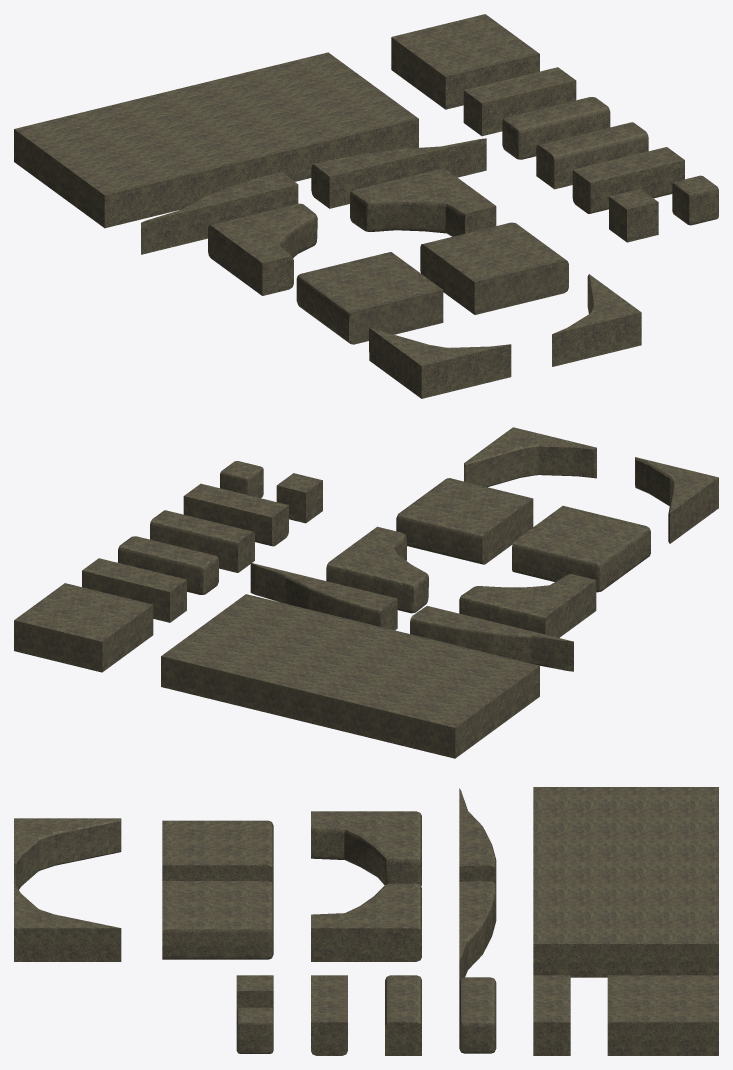
File: CaveWallsMushroom_V1.fbx
3 renders of one model, top to bottom at view 1: azimuth 30°, elevation 25°; view 2: azimuth 150°, elevation 25°; view 3: azimuth 270°, elevation 25°, orthographic. The views are drawn at different scales.
Visible parts, largest first — view 1: TenByFive, ThreeByThreeR, ThreeByThreeL, CubeThreeByThree, ThreebyThreeCliffR, ThreebyThreeCliffL, SteepSlopeL, SlopeR, SlopeL, SteepSlopeR, OneByThreeRD, OneByThree (+4 smaller); view 2: TenByFive, CubeThreeByThree, ThreeByThreeR, ThreeByThreeL, ThreebyThreeCliffL, SlopeL, SteepSlopeR, ThreebyThreeCliffR, SlopeR, SteepSlopeL, OneByThreeRD, OneByThree (+4 smaller); view 3: TenByFive, CubeThreeByThree, ThreeByThreeR, ThreebyThreeCliffR, ThreeByThreeL, ThreebyThreeCliffL, SteepSlopeR, SteepSlopeL, OneByThree, OneByThreeRD, OneByThreeRU, SlopeR (+4 smaller).
Part boxes in pixels (x1=…): TenByFive: x1=14, y1=52, x2=418, y2=228; ThreeByThreeR: x1=420, y1=222, x2=568, y2=314; ThreeByThreeL: x1=296, y1=252, x2=443, y2=344; CubeThreeByThree: x1=391, y1=14, x2=539, y2=109; ThreebyThreeCliffR: x1=350, y1=168, x2=496, y2=236; ThreebyThreeCliffL: x1=208, y1=203, x2=317, y2=295; SteepSlopeL: x1=369, y1=327, x2=511, y2=398; SlopeR: x1=311, y1=138, x2=486, y2=208; SlopeL: x1=141, y1=172, x2=298, y2=254; SteepSlopeR: x1=552, y1=274, x2=641, y2=366; OneByThreeRD: x1=572, y1=147, x2=684, y2=213; OneByThree: x1=463, y1=67, x2=576, y2=136; TenByFive: x1=161, y1=594, x2=539, y2=758; CubeThreeByThree: x1=14, y1=583, x2=153, y2=672; ThreeByThreeR: x1=396, y1=478, x2=533, y2=564; ThreeByThreeL: x1=512, y1=505, x2=650, y2=592; ThreebyThreeCliffL: x1=459, y1=574, x2=596, y2=637; SlopeL: x1=410, y1=606, x2=573, y2=671; SteepSlopeR: x1=464, y1=427, x2=596, y2=487; ThreebyThreeCliffR: x1=326, y1=526, x2=428, y2=613; SlopeR: x1=250, y1=563, x2=397, y2=630; SteepSlopeL: x1=635, y1=457, x2=718, y2=543; OneByThreeRD: x1=183, y1=483, x2=288, y2=546; OneByThree: x1=82, y1=558, x2=186, y2=622; TenByFive: x1=533, y1=787, x2=718, y2=977; CubeThreeByThree: x1=607, y1=975, x2=718, y2=1055; ThreeByThreeR: x1=162, y1=881, x2=273, y2=959; ThreebyThreeCliffR: x1=311, y1=883, x2=421, y2=961; ThreeByThreeL: x1=162, y1=820, x2=273, y2=885; ThreebyThreeCliffL: x1=311, y1=811, x2=421, y2=886; SteepSlopeR: x1=14, y1=884, x2=121, y2=961; SteepSlopeL: x1=14, y1=818, x2=121, y2=889; OneByThree: x1=533, y1=975, x2=570, y2=1055; OneByThreeRD: x1=311, y1=975, x2=347, y2=1055; OneByThreeRU: x1=385, y1=975, x2=421, y2=1055; SlopeR: x1=459, y1=881, x2=496, y2=981.
Bounding box in the file's own units: 15 × 1 × 19.
Materials: 1 (1 with a texture image).
